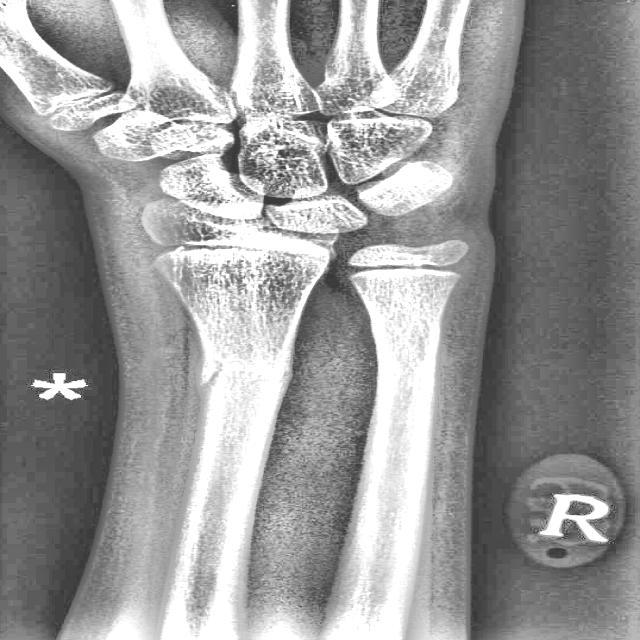fracture: (191, 350, 231, 398), (169, 246, 195, 286)
